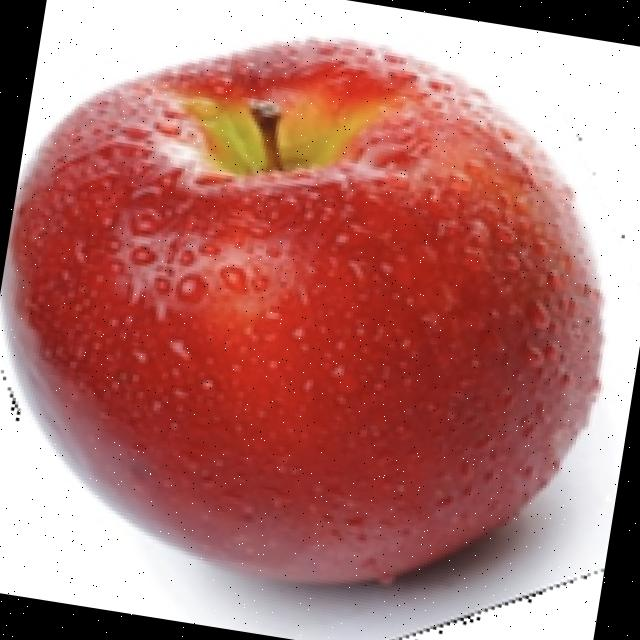apple: (0, 32, 610, 640)
